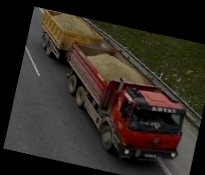truck: (14, 7, 205, 173)
